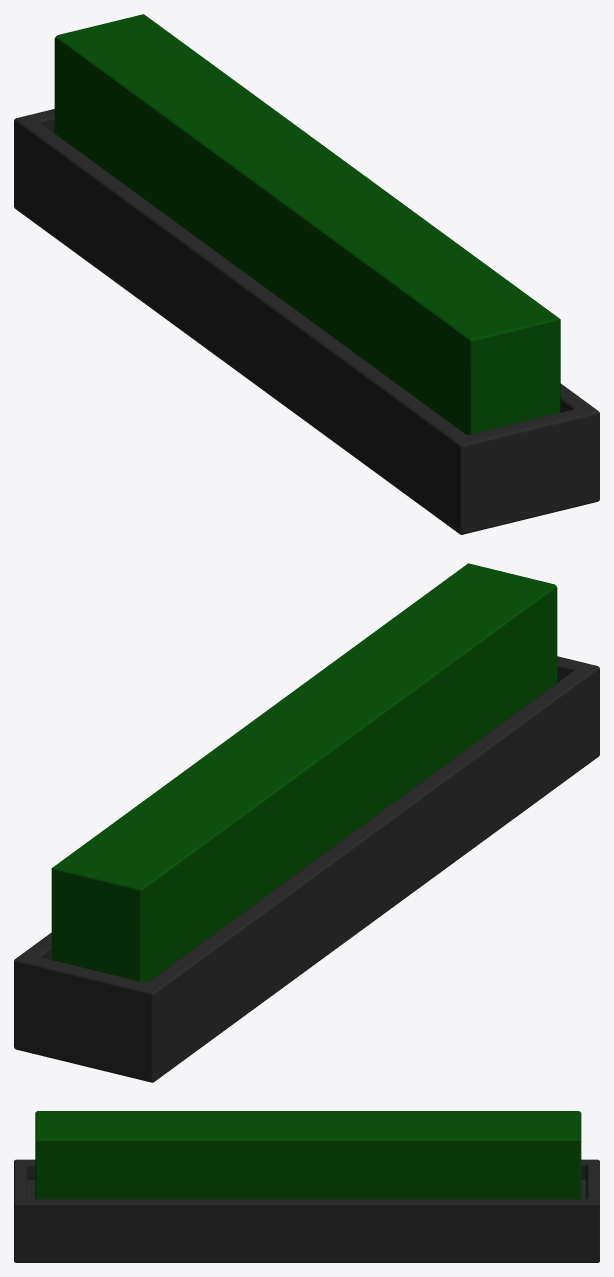
Rendered from vegetation.obj.
3 views of the same model, one above another, from view 1: azimuth 30°, elevation 25°; view 2: azimuth 150°, elevation 25°; view 3: azimuth 270°, elevation 25° (orthographic). The views are drawn at different scales.
Parts seen in each view (by area): view 1: vegetation_Плоскость.015; view 2: vegetation_Плоскость.015; view 3: vegetation_Плоскость.015.
Boxes of the visible parts, x1,y1,x2,y2 form: vegetation_Плоскость.015: (14, 14, 599, 534); vegetation_Плоскость.015: (14, 563, 599, 1082); vegetation_Плоскость.015: (14, 1111, 599, 1262).
Bounding box in the file's own units: 0.5617 × 0.6801 × 3.1.
